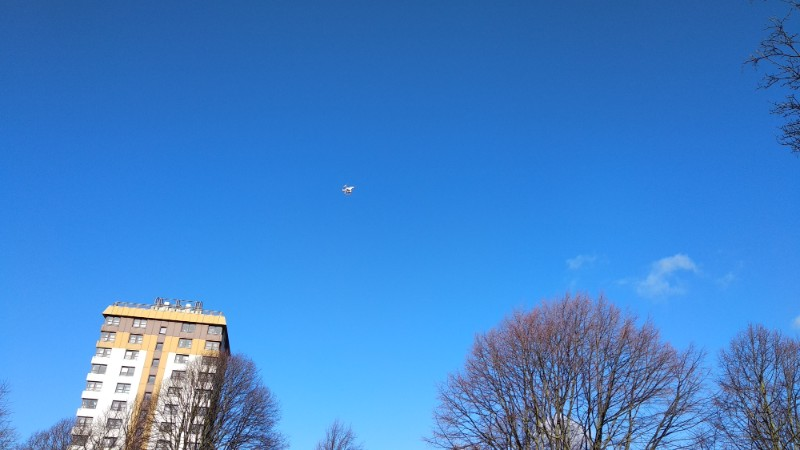drone: (340, 184, 355, 196)
